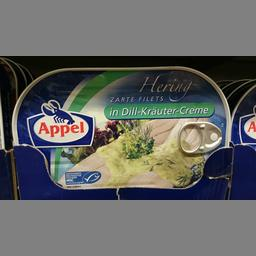fish: (10, 66, 232, 188)
